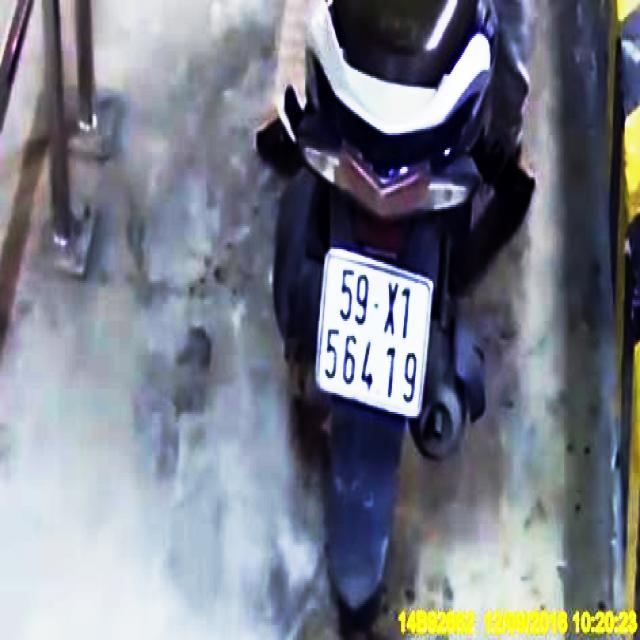license_plate: (316, 249, 434, 419)
